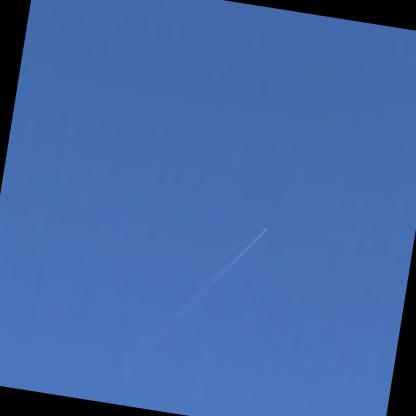plane: (260, 223, 272, 238)
